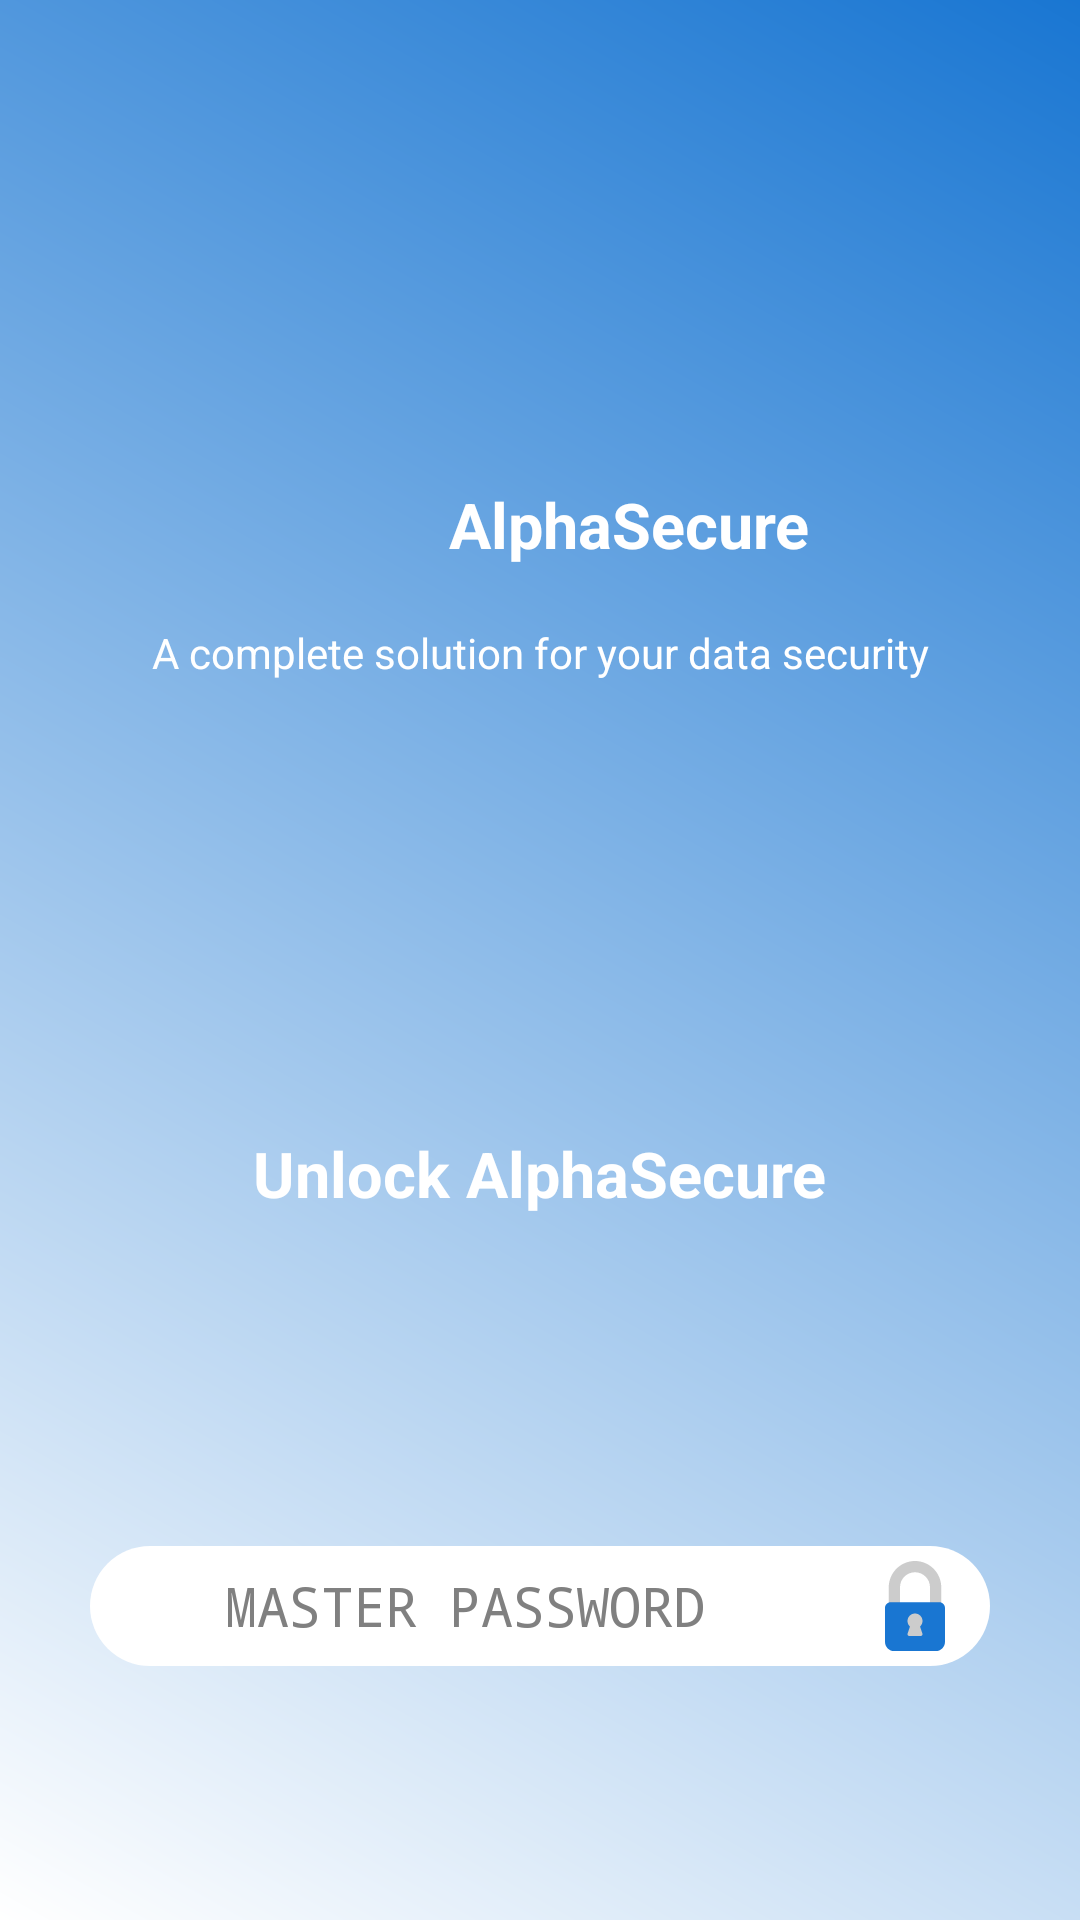

Icon click points for this 1080 × 1920 phone screenshot, format [x,y]:
lock: [915,1606]
